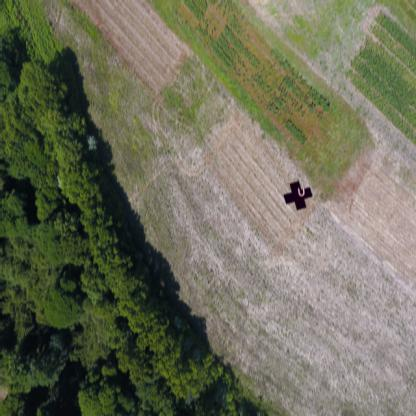U: (297, 187, 306, 197)
plus: (283, 181, 314, 212)
